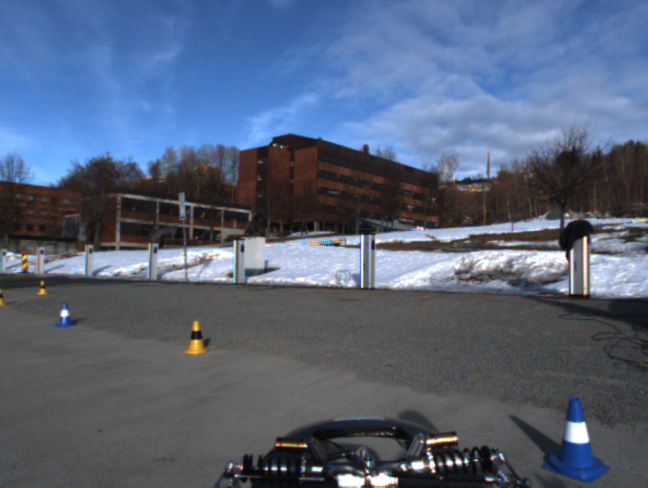cone-small-blue: (541, 395, 612, 485), (54, 301, 77, 328)
cone-small-yellow: (183, 320, 209, 355), (37, 280, 48, 295), (1, 289, 9, 306)
